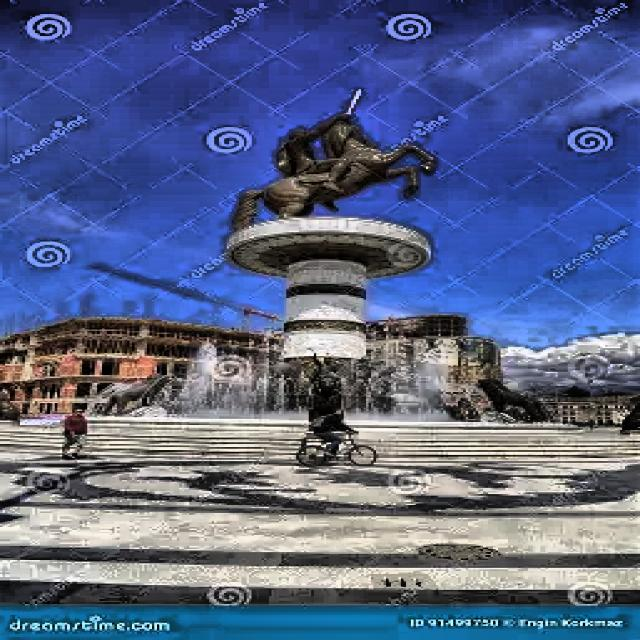alexander the great monument: (194, 80, 446, 429)
